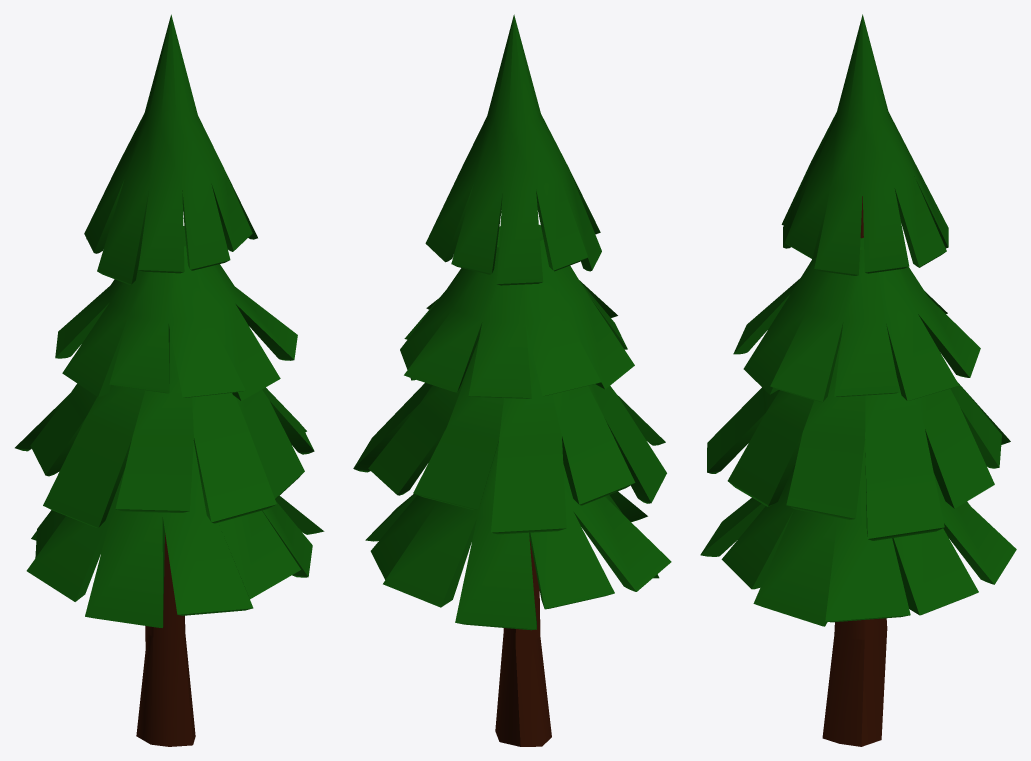
File: TreeFir3.obj
3 renders of one model, left to right at view 1: azimuth 30°, elevation 25°; view 2: azimuth 150°, elevation 25°; view 3: azimuth 270°, elevation 25°, orthographic.
Visible parts, largest first — view 1: Tree_Fir_3; view 2: Tree_Fir_3; view 3: Tree_Fir_3.
Boxes of the visible parts, x1=… form: Tree_Fir_3: x1=15, y1=14, x2=324, y2=746; Tree_Fir_3: x1=353, y1=14, x2=671, y2=746; Tree_Fir_3: x1=700, y1=14, x2=1016, y2=746.
Bounding box in the file's own units: 0.1335 × 0.3364 × 0.1335.
